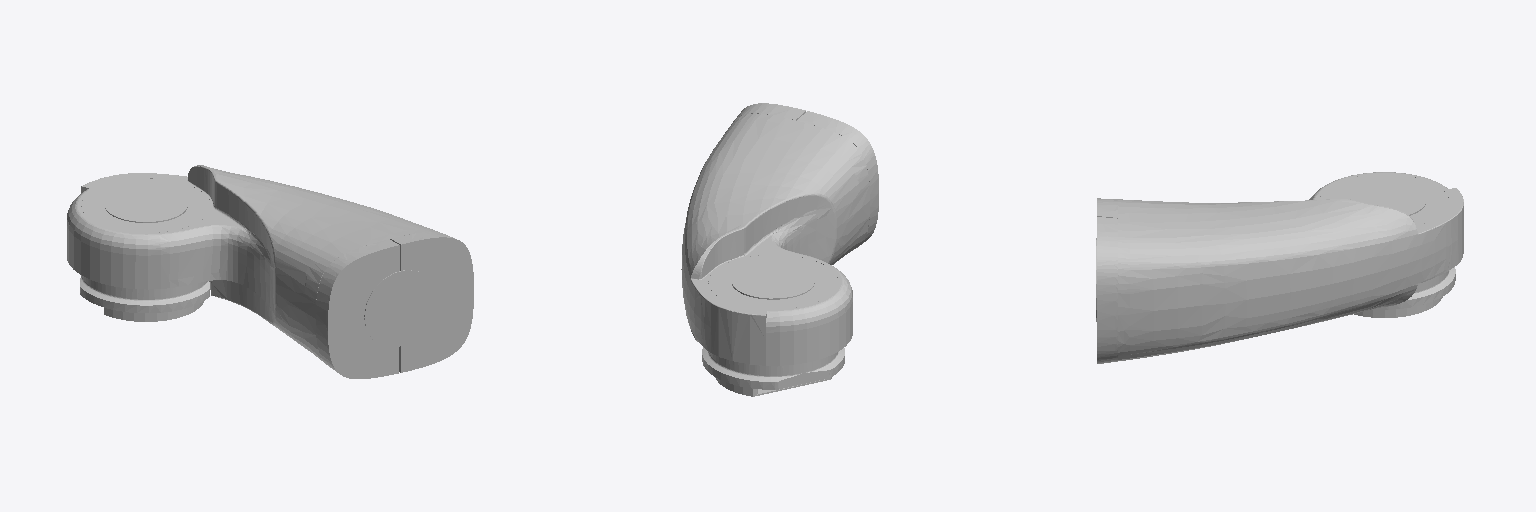
Rendered from left_hip_yaw_link_collisions.obj.
The picture shows the model from 3 angles: view 1: azimuth 30°, elevation 25°; view 2: azimuth 150°, elevation 25°; view 3: azimuth 270°, elevation 25°; orthographic projection.
Bounding box in the file's own units: 0.1796 × 0.0887 × 0.2262.